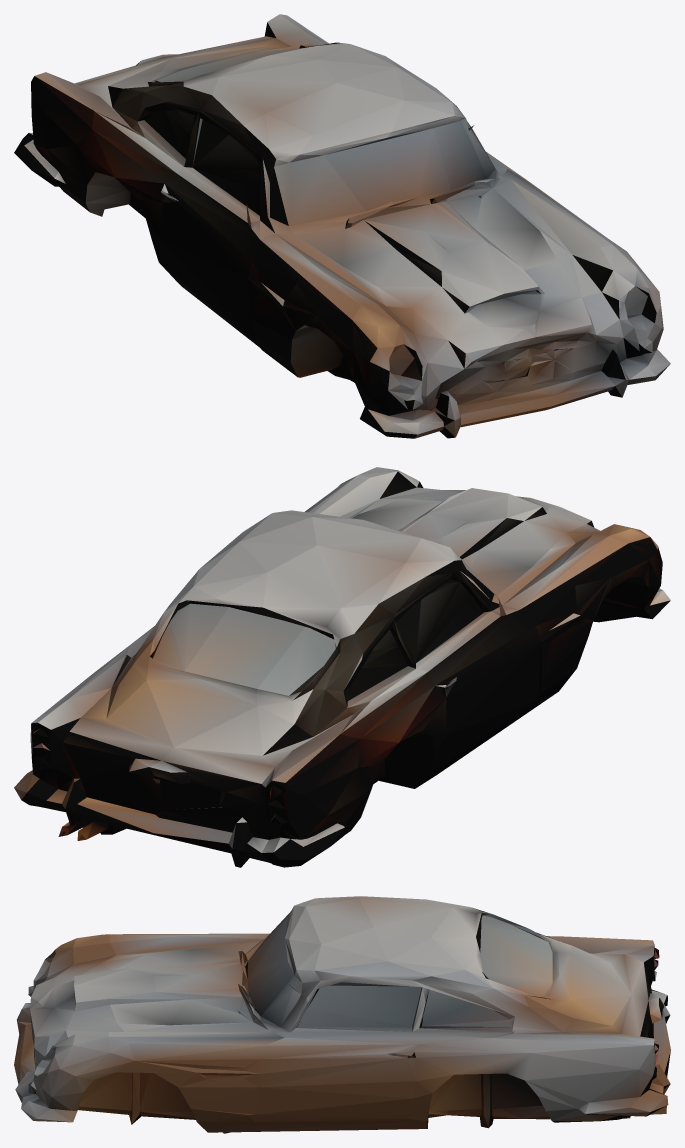
File: aston_martin_db5.glb
3 views of the same model, one above another, from view 1: azimuth 30°, elevation 25°; view 2: azimuth 150°, elevation 25°; view 3: azimuth 270°, elevation 25° (orthographic). The views are drawn at different scales.
Visible parts, largest first — view 1: Wreck_aston_martin_db5; view 2: Wreck_aston_martin_db5; view 3: Wreck_aston_martin_db5.
Part boxes in pixels (<box>): Wreck_aston_martin_db5: <box>14,14,670,438</box>; Wreck_aston_martin_db5: <box>14,467,670,867</box>; Wreck_aston_martin_db5: <box>14,896,670,1133</box>.
Bounding box in the file's own units: 2.01 × 1.32 × 4.58.
